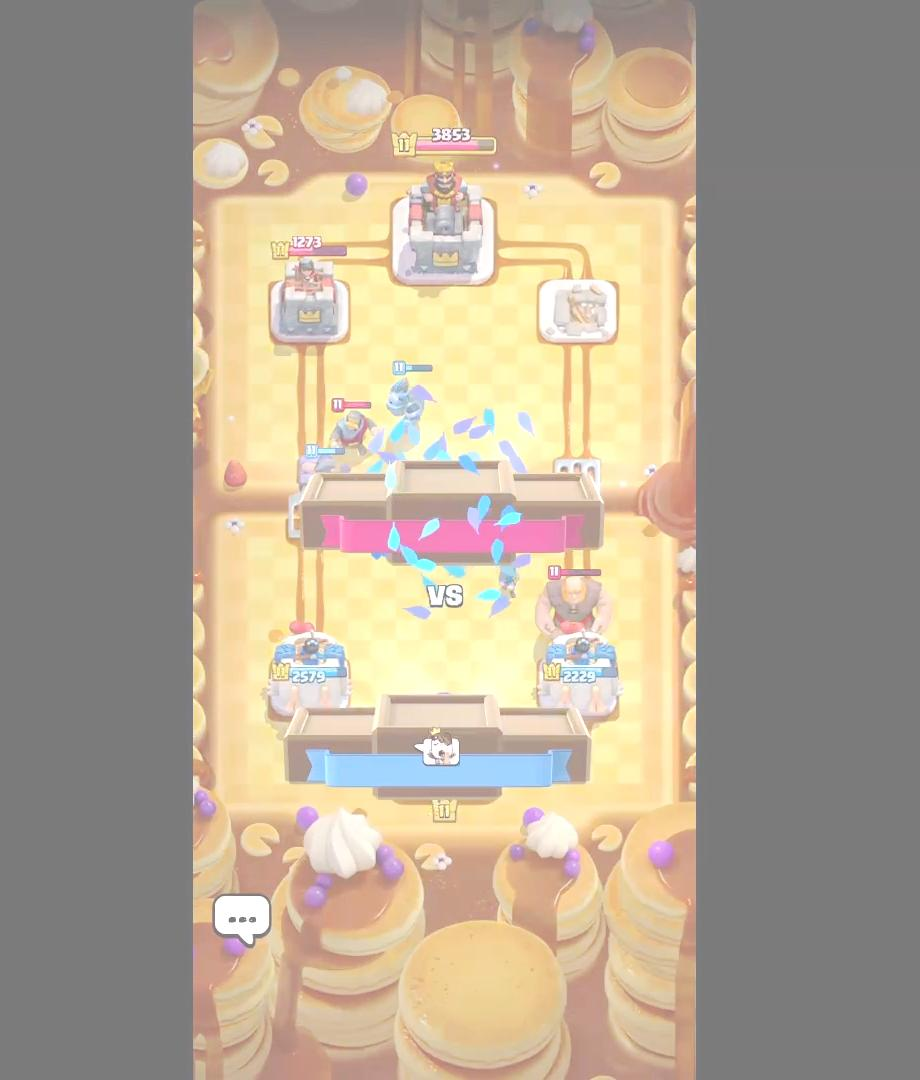Knight: (330, 396, 379, 458)
